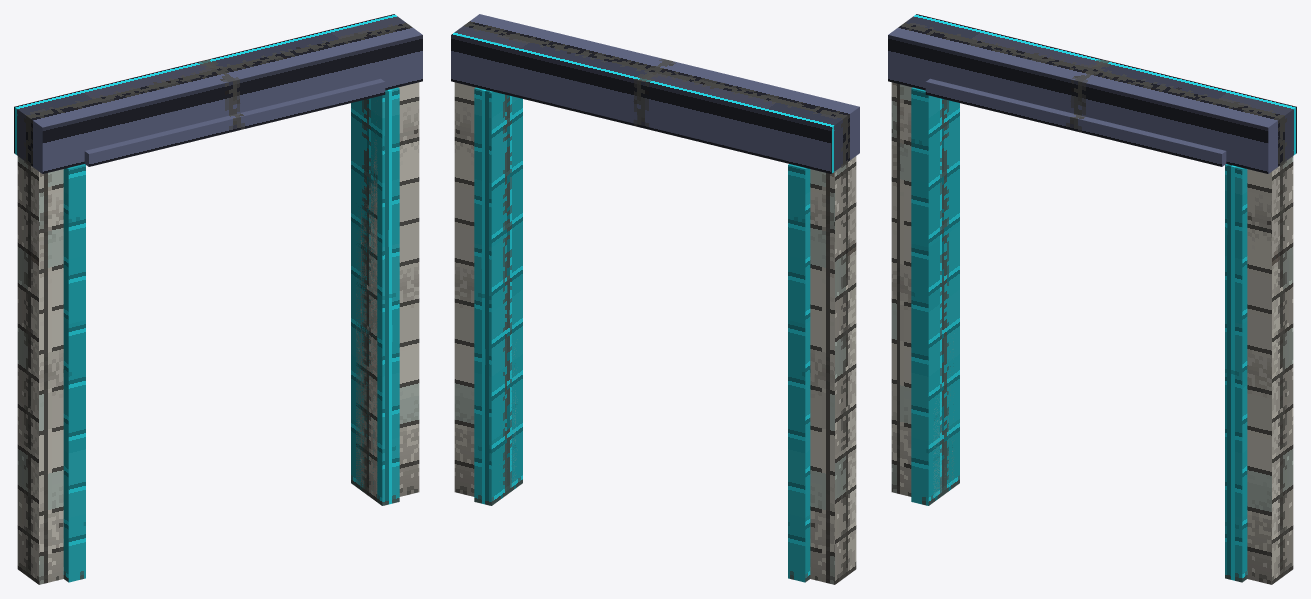
Rendered from tp_br_shutter_head.glb.
3 renders of one model, left to right at view 1: azimuth 30°, elevation 25°; view 2: azimuth 150°, elevation 25°; view 3: azimuth 330°, elevation 25°, orthographic.
Parts seen in each view (by area): view 1: br_sh_head, br_sh_guide_l, br_sh_lip_r, br_sh_guide_r, br_sh_lip_l, br_sh_rail; view 2: br_sh_head, br_sh_lip_r, br_sh_guide_l, br_sh_lip_l, br_sh_guide_r, br_sh_rail; view 3: br_sh_head, br_sh_lip_l, br_sh_guide_r, br_sh_lip_r, br_sh_guide_l, br_sh_rail.
Boxes of the visible parts, <box> form: br_sh_head: <box>14,14,422,173</box>; br_sh_guide_l: <box>17,156,63,584</box>; br_sh_lip_r: <box>351,87,399,505</box>; br_sh_guide_r: <box>356,82,419,501</box>; br_sh_lip_l: <box>63,164,85,582</box>; br_sh_rail: <box>84,78,385,166</box>; br_sh_head: <box>451,14,859,173</box>; br_sh_lip_r: <box>474,87,522,505</box>; br_sh_guide_l: <box>810,156,856,584</box>; br_sh_lip_l: <box>788,164,810,582</box>; br_sh_guide_r: <box>454,82,515,496</box>; br_sh_rail: <box>493,78,788,163</box>; br_sh_head: <box>888,14,1296,173</box>; br_sh_lip_l: <box>911,87,959,505</box>; br_sh_guide_r: <box>1247,156,1293,584</box>; br_sh_lip_r: <box>1225,164,1247,582</box>; br_sh_guide_l: <box>891,82,953,501</box>; br_sh_rail: <box>925,78,1226,166</box>.
Bounding box in the file's own units: 3.08 × 3.56 × 0.48.
3 materials, 3 textured.
